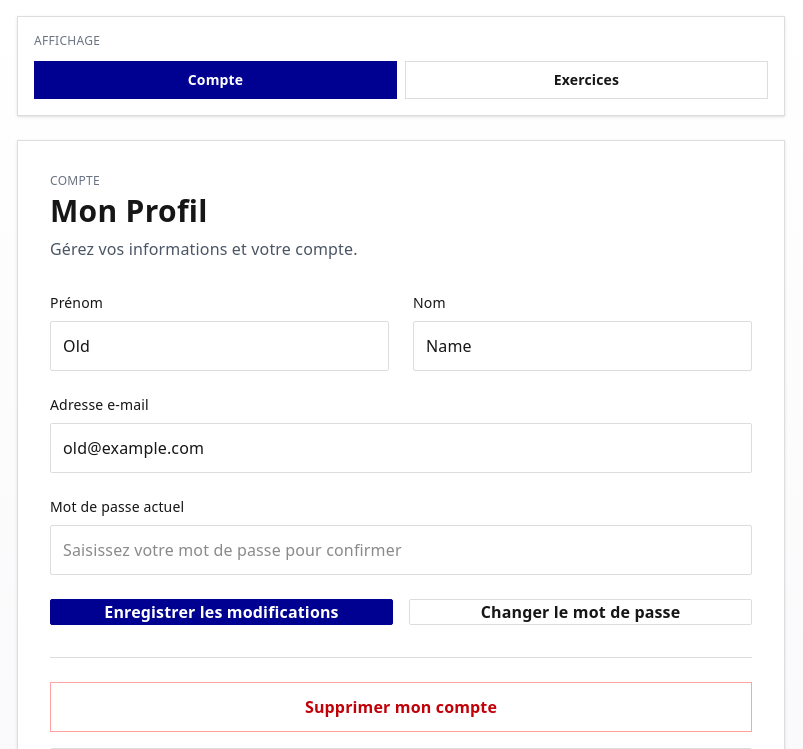
Test: Profile page › updates profile when form is submitted
Replace the text in the field labelled "Prénom" with "New": (220, 346) top-left (50, 321), bottom-right (389, 371)
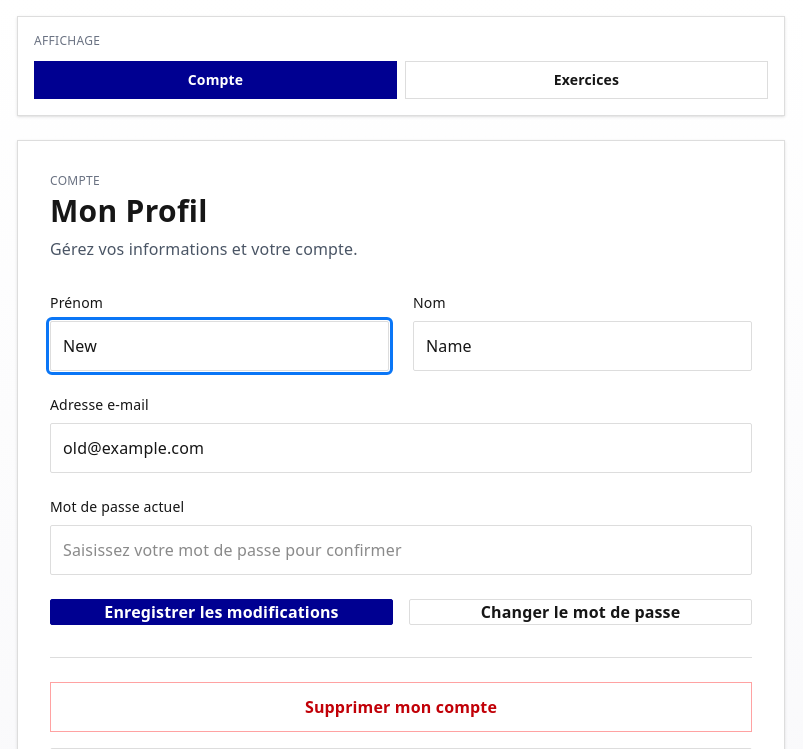
In the password field labelled "Mot de passe actuel": (401, 550) top-left (50, 525), bottom-right (752, 575), type "password123"
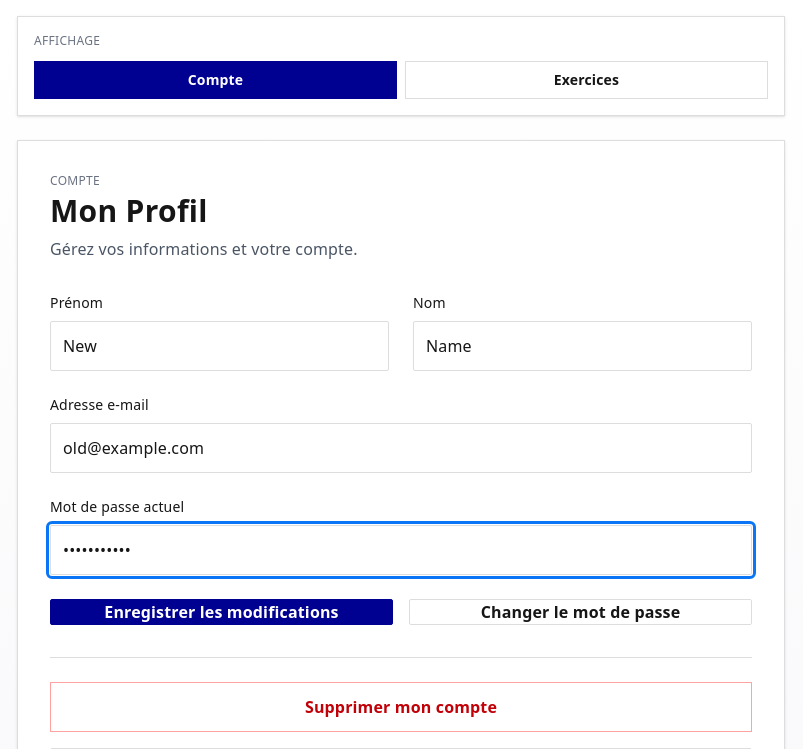
Click the button "Enregistrer les modifications": (222, 612) top-left (50, 599), bottom-right (393, 625)
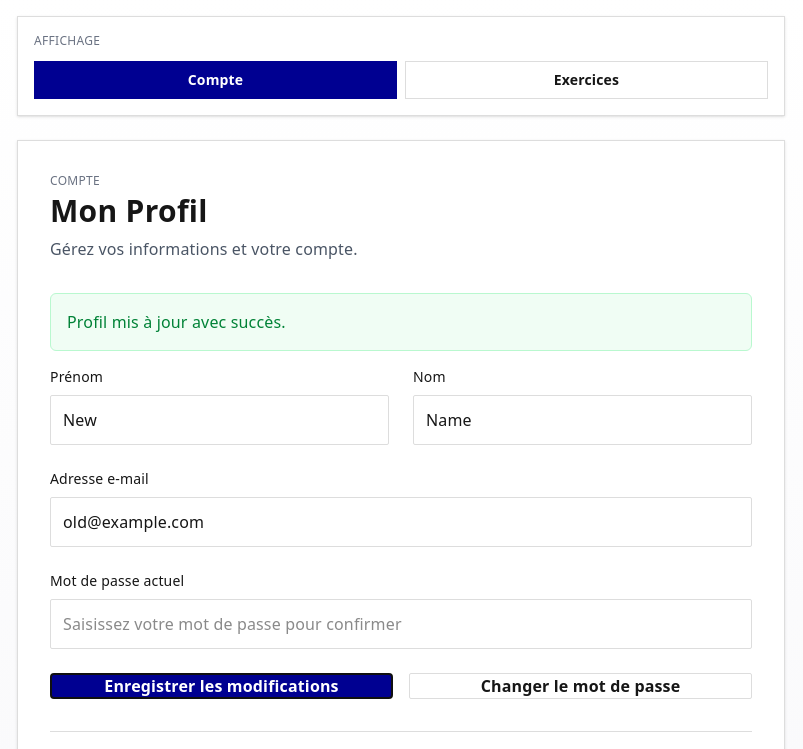
Check: the text "Profil mis à jour avec succès." is shown, box top-left (50, 293), bottom-right (752, 351)
